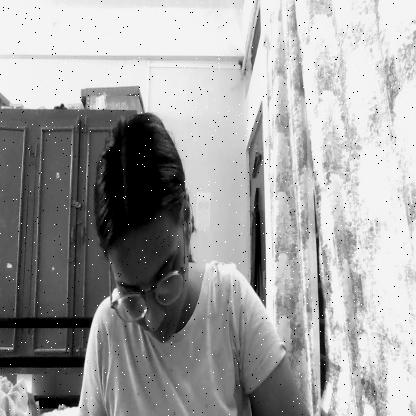Distracted: (105, 120, 185, 342)
